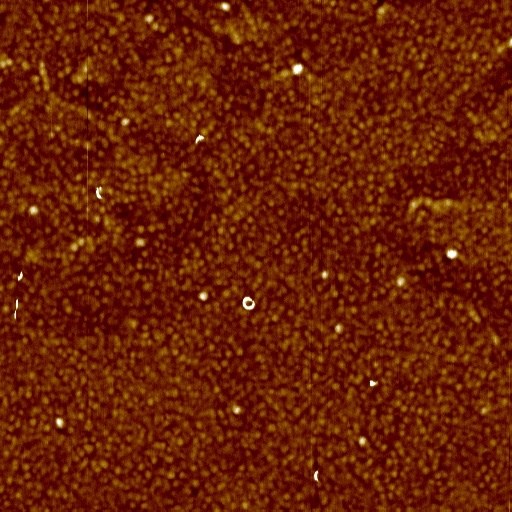-1: (288, 62, 303, 76), (219, 1, 234, 13), (54, 417, 67, 428), (198, 290, 210, 301), (27, 207, 40, 217), (445, 249, 459, 258), (369, 379, 379, 387)
1/4: (12, 298, 21, 322), (194, 131, 207, 145), (312, 468, 323, 484), (95, 182, 103, 203), (15, 270, 27, 283)
4/4: (241, 294, 258, 312)
